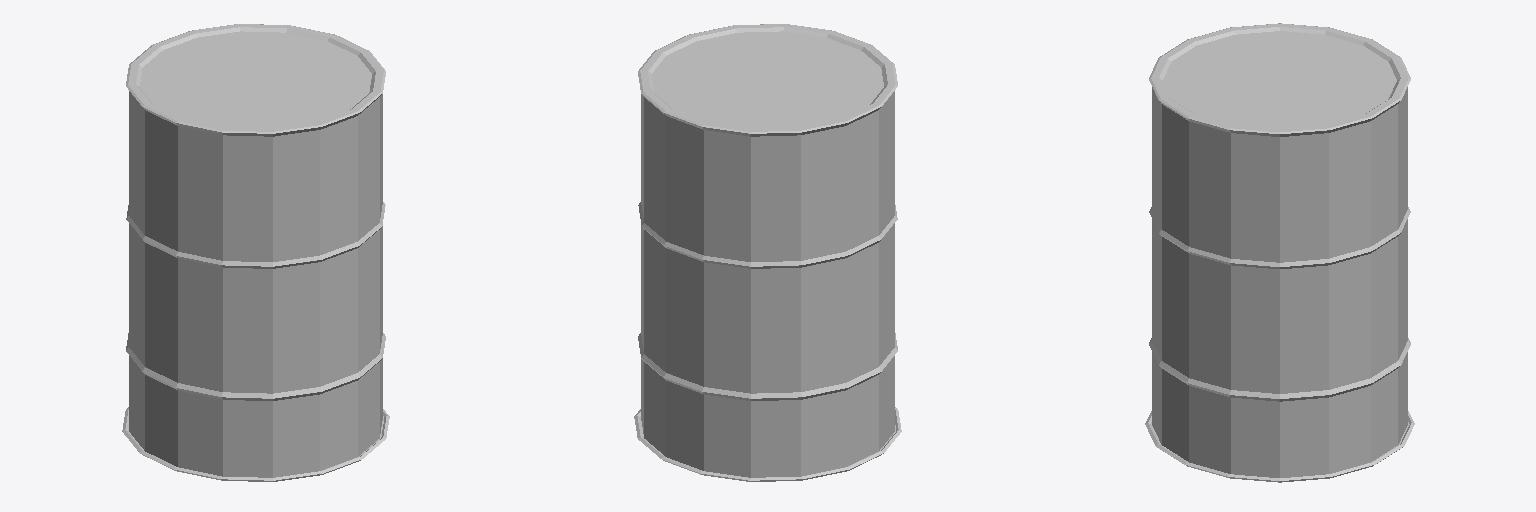
File: metallic_barrel_with_lod1.obj
3 renders of one model, left to right at view 1: azimuth 30°, elevation 25°; view 2: azimuth 150°, elevation 25°; view 3: azimuth 270°, elevation 25°, orthographic.
Parts seen in each view (by area): view 1: MetallicBarel.LOD01__0; view 2: MetallicBarel.LOD01__0; view 3: MetallicBarel.LOD01__0.
Part boxes in pixels (bbox=[...]): MetallicBarel.LOD01__0: bbox=[122, 24, 389, 481]; MetallicBarel.LOD01__0: bbox=[634, 24, 901, 481]; MetallicBarel.LOD01__0: bbox=[1145, 23, 1414, 482].
Size of the model in its own units: 0.7401 by 1.08 by 0.7401.